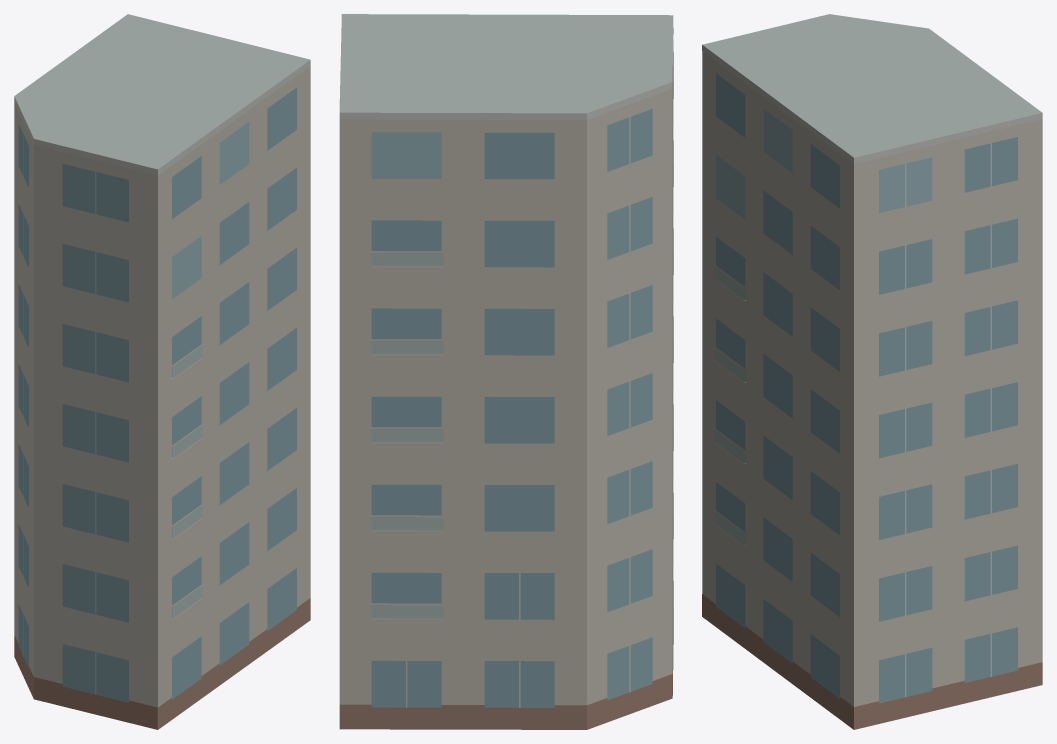
Rendered from survey-upis-32665794.glb.
The picture shows the model from 3 angles, left to right: view 1: azimuth 30°, elevation 25°; view 2: azimuth 150°, elevation 25°; view 3: azimuth 270°, elevation 25°; orthographic projection. The views are drawn at different scales.
Visible parts, largest first — view 1: survey-upis-32665794.tmp; view 2: survey-upis-32665794.tmp; view 3: survey-upis-32665794.tmp.
Part boxes in pixels (box(x1,y1,x2,y2)): survey-upis-32665794.tmp: box(14, 14, 310, 729); survey-upis-32665794.tmp: box(339, 14, 673, 729); survey-upis-32665794.tmp: box(702, 14, 1042, 729).
Size of the model in its own units: 12 by 22.25 by 12.01.
